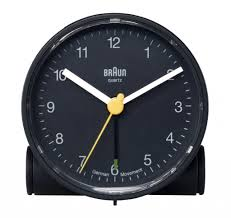alarm_clock: (23, 12, 203, 202), (23, 12, 203, 193), (23, 16, 203, 193)
